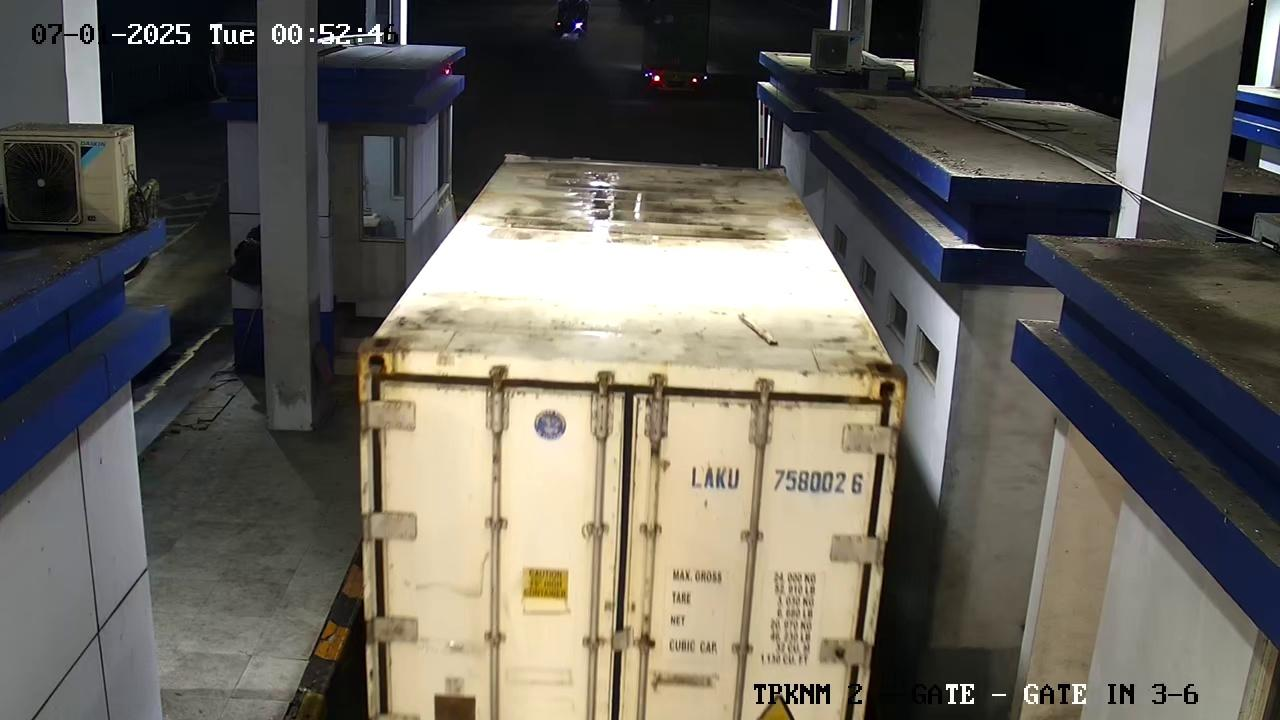Container_ID: (659, 447, 885, 515)
